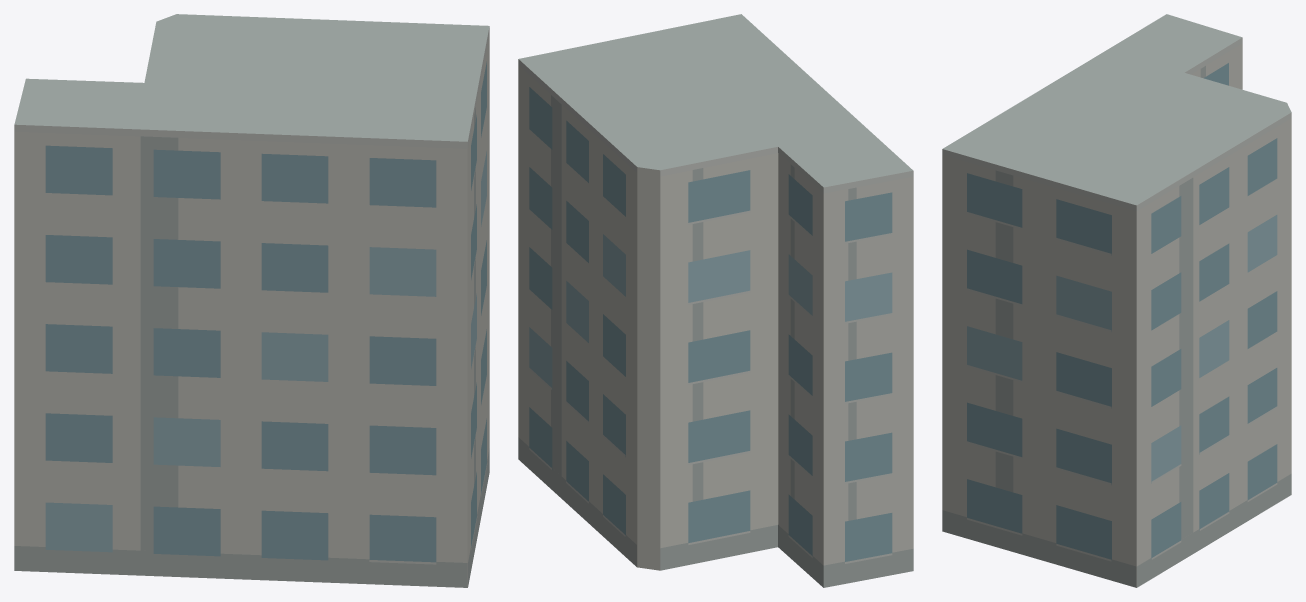
The model's file is survey-upis-32808951.glb.
The picture shows the model from 3 angles, left to right: view 1: azimuth 30°, elevation 25°; view 2: azimuth 150°, elevation 25°; view 3: azimuth 270°, elevation 25°; orthographic projection. The views are drawn at different scales.
Parts seen in each view (by area): view 1: survey-upis-32808951.tmp; view 2: survey-upis-32808951.tmp; view 3: survey-upis-32808951.tmp.
Boxes of the visible parts, x1=… form: survey-upis-32808951.tmp: x1=14, y1=14, x2=489, y2=587; survey-upis-32808951.tmp: x1=518, y1=14, x2=913, y2=587; survey-upis-32808951.tmp: x1=942, y1=14, x2=1291, y2=587.
Bounding box in the file's own units: 16.92 × 15.75 × 13.05.
